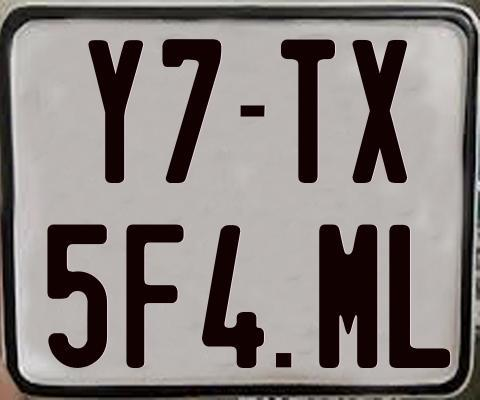4: (200, 225, 262, 371)
5: (47, 224, 109, 371)
7: (159, 38, 219, 187)
F: (124, 222, 186, 370)
L: (389, 224, 454, 369)
M: (319, 222, 377, 372)
T: (280, 36, 336, 183)
X: (352, 37, 413, 181)
Y: (85, 40, 145, 183)
